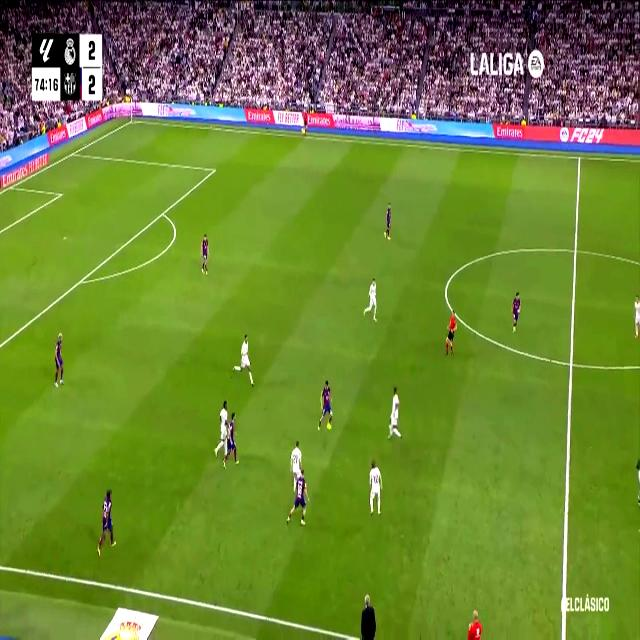bigarea_top_inner: (211, 163, 217, 177)
bigarea_top_outter: (70, 147, 76, 158)
bottom_arc_area_intersection: (76, 271, 86, 290)
corner: (128, 114, 136, 124)
halfcircle_bottom: (566, 349, 578, 376)
halfcircle_top: (570, 238, 582, 262)
midline_top_intersection: (576, 151, 584, 165)
smallarea_top_inner: (58, 189, 63, 199)
top_arc_area_intersection: (159, 205, 167, 220)
